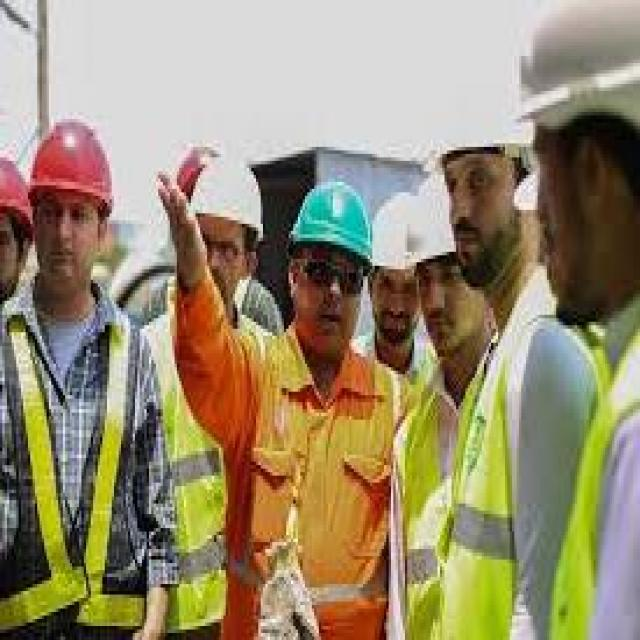Reflective-Jacket: (0, 287, 144, 633), (140, 311, 235, 633), (558, 290, 640, 636)
Safety-Helmet: (509, 0, 640, 147), (426, 66, 531, 168), (23, 112, 121, 217), (284, 172, 375, 270), (188, 158, 268, 242), (370, 186, 433, 276), (0, 147, 40, 245)
